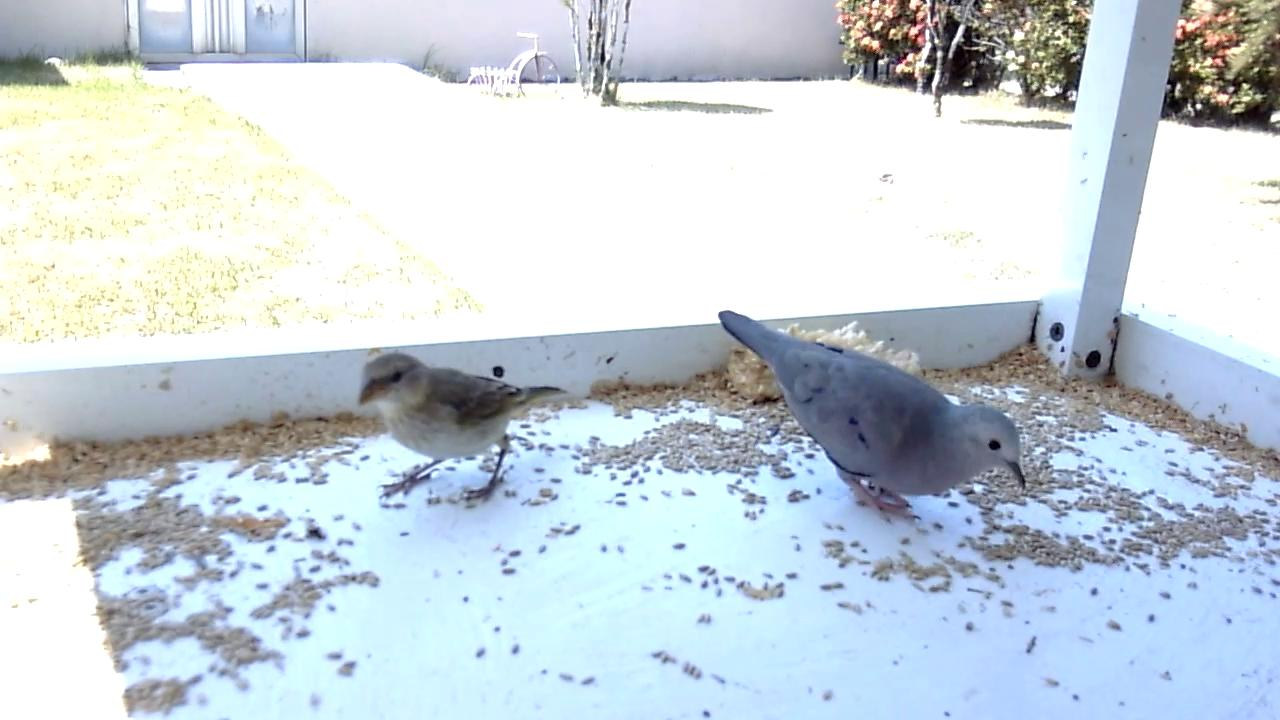canario_do_amazonas: (355, 351, 572, 511)
rolinha: (718, 308, 1031, 527)
